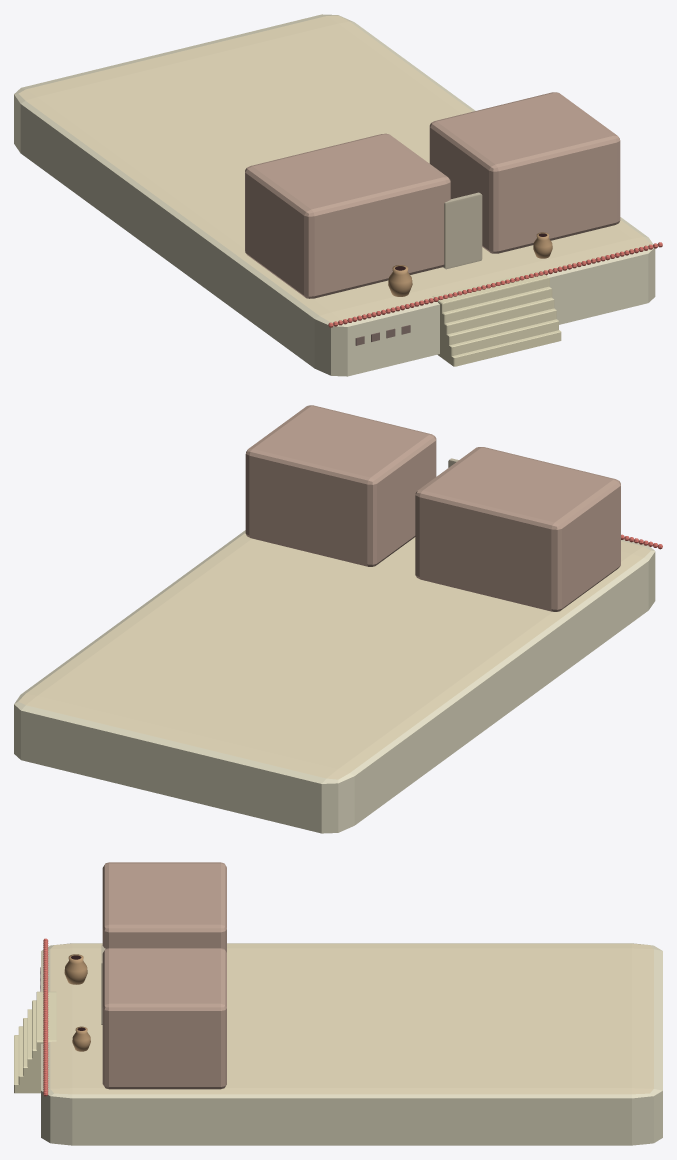
The model's file is archway.fbx.
3 views of the same model, one above another, from view 1: azimuth 30°, elevation 25°; view 2: azimuth 150°, elevation 25°; view 3: azimuth 270°, elevation 25° (orthographic). The views are drawn at different scales.
Parts seen in each view (by area): view 1: ARCH_terrace, ARCH_building_west, ARCH_building_east, ARCH_doors, ARCH_stair5, ARCH_stair3, ARCH_stair2, ARCH_stair0, ARCH_stair4, ARCH_stair1, ARCH_pot0; view 2: ARCH_terrace, ARCH_building_west, ARCH_building_east; view 3: ARCH_terrace, ARCH_building_east, ARCH_building_west, ARCH_stair5, ARCH_pot0, ARCH_stair0, ARCH_stair4, ARCH_stair1.
Part boxes in pixels (x1,y1,x2,y2): ARCH_terrace: [14, 14, 655, 376]; ARCH_building_west: [245, 133, 450, 298]; ARCH_building_east: [429, 92, 620, 253]; ARCH_doors: [443, 192, 482, 269]; ARCH_stair5: [432, 270, 549, 327]; ARCH_stair3: [440, 297, 554, 360]; ARCH_stair2: [440, 308, 556, 353]; ARCH_stair0: [437, 330, 561, 366]; ARCH_stair4: [440, 286, 552, 357]; ARCH_stair1: [440, 319, 558, 356]; ARCH_pot0: [388, 265, 412, 296]; ARCH_terrace: [14, 530, 655, 833]; ARCH_building_west: [415, 447, 620, 611]; ARCH_building_east: [245, 405, 436, 566]; ARCH_terrace: [41, 943, 662, 1145]; ARCH_building_east: [102, 948, 226, 1089]; ARCH_building_west: [102, 862, 226, 952]; ARCH_stair5: [36, 991, 56, 1092]; ARCH_pot0: [64, 954, 87, 984]; ARCH_stair0: [14, 1035, 40, 1093]; ARCH_stair4: [32, 1000, 40, 1081]; ARCH_stair1: [18, 1026, 40, 1086].
Size of the model in its own units: 2362 by 972 by 4175.
